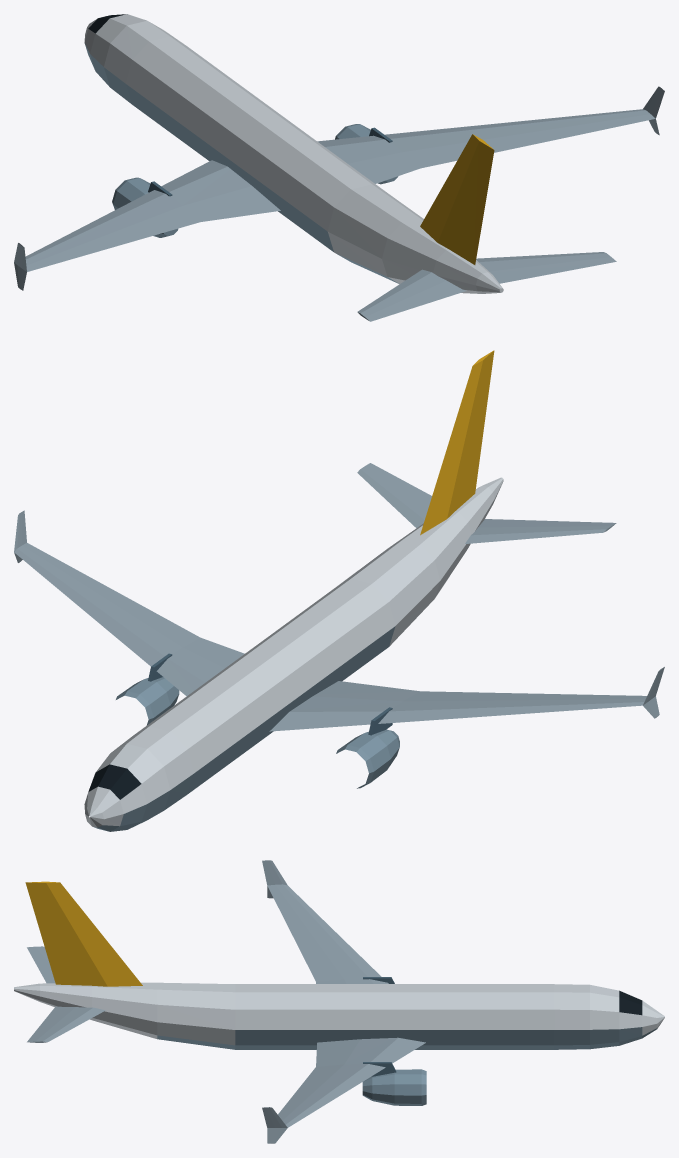
3 views of the same model, one above another, from view 1: azimuth 30°, elevation 25°; view 2: azimuth 150°, elevation 25°; view 3: azimuth 270°, elevation 25° (orthographic). The views are drawn at different scales.
Visible parts, largest first — view 1: lod0; view 2: lod0; view 3: lod0.
Boxes of the visible parts, bbox=[...] form: lod0: bbox=[14, 14, 664, 321]; lod0: bbox=[14, 350, 664, 831]; lod0: bbox=[14, 860, 664, 1143].
Size of what is drawn, in the model's own units: 0.8975 by 0.3031 by 1.
